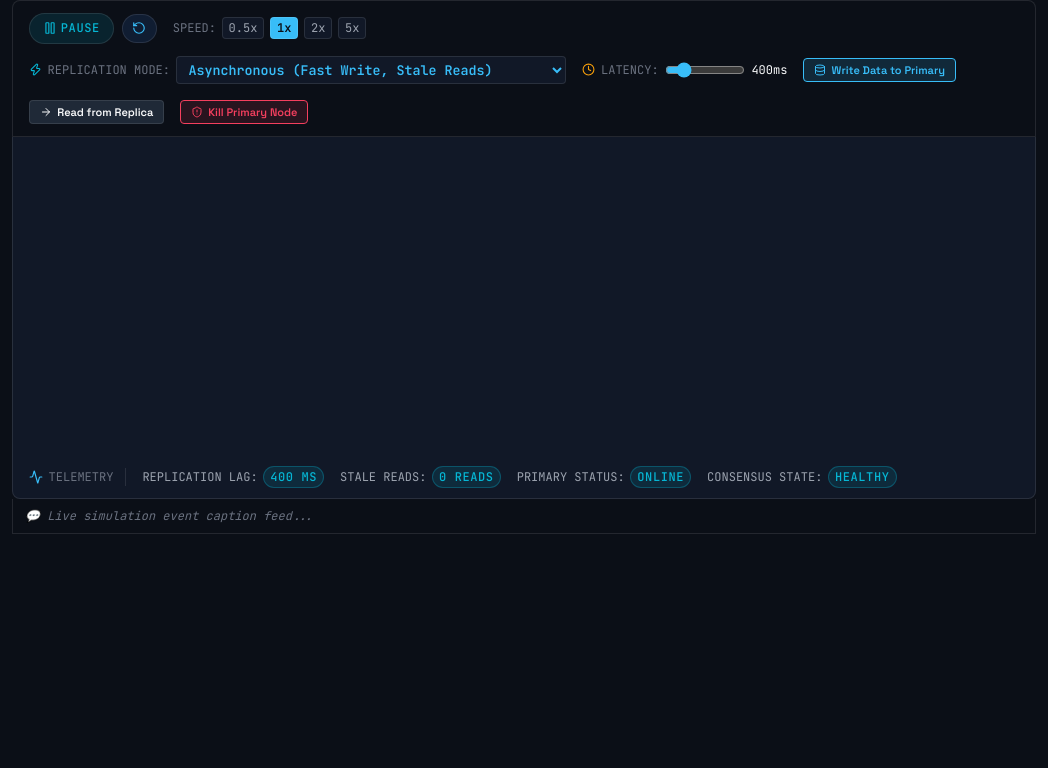
ReplicationVisualizer (Catalog Viz #3) › handles Read from Replica button click
What coordinates should you click on to do the following:
click the button "Read from Replica"
I would click on:
 (96, 112)
Its box is [29,100,164,124].
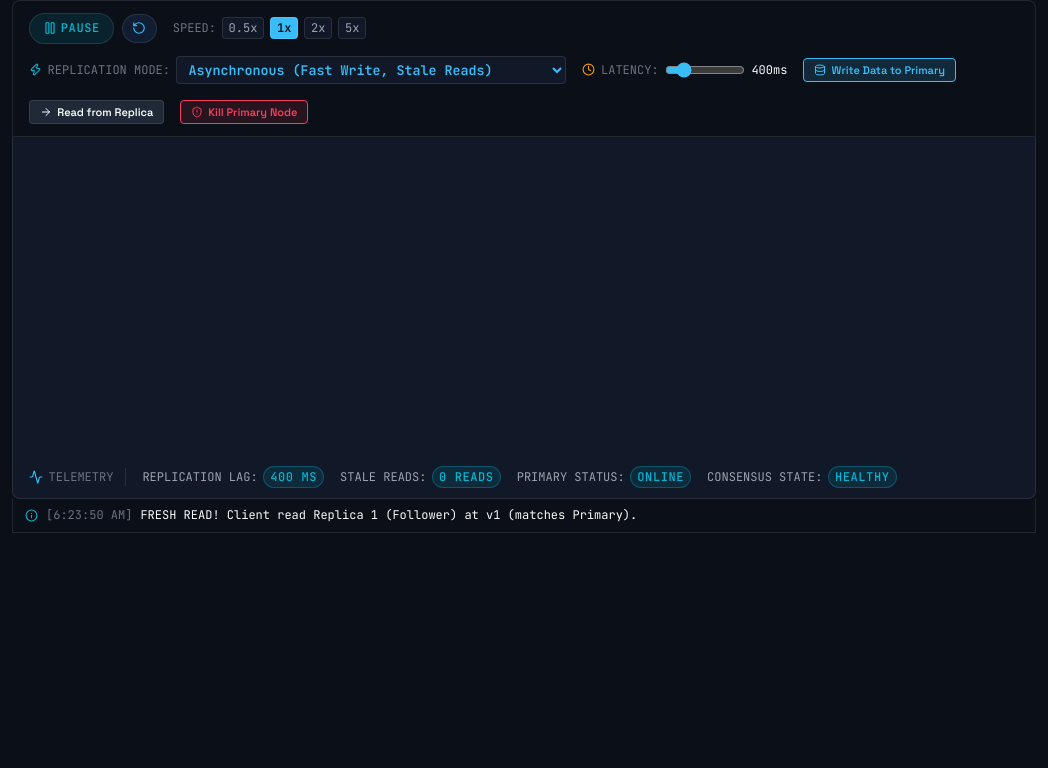
Expected: the text "READ! Client read Replica" is shown, [140,507,637,523]
